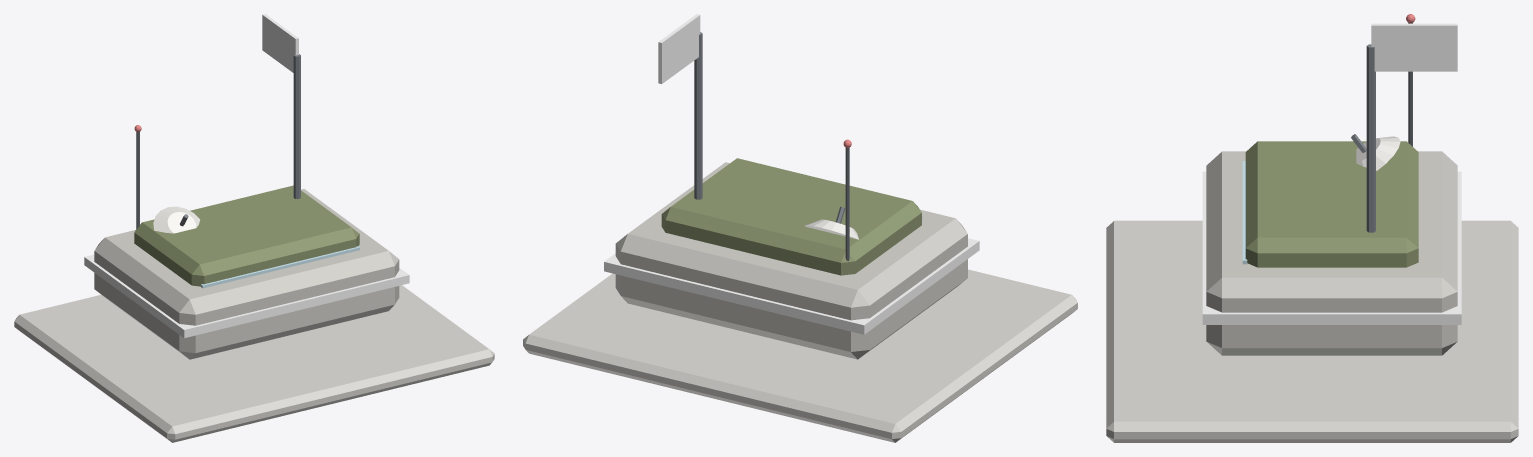
The picture shows the model from 3 angles, left to right: view 1: azimuth 30°, elevation 25°; view 2: azimuth 150°, elevation 25°; view 3: azimuth 270°, elevation 25°; orthographic projection. The views are drawn at different scales.
Parts seen in each view (by area): view 1: main; view 2: main; view 3: main.
Boxes of the visible parts, box(x1,y1,x2,y2) form: main: box(14, 14, 494, 442); main: box(523, 14, 1077, 442); main: box(1106, 14, 1518, 442).
Size of the model in its own units: 1.25 by 1.01 by 1.05.
